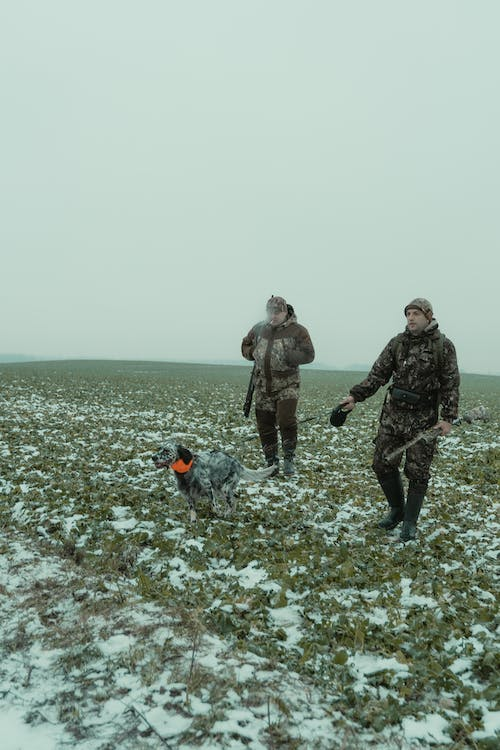cigarette: (265, 318, 275, 326)
gun: (379, 403, 487, 463), (240, 290, 276, 421)
